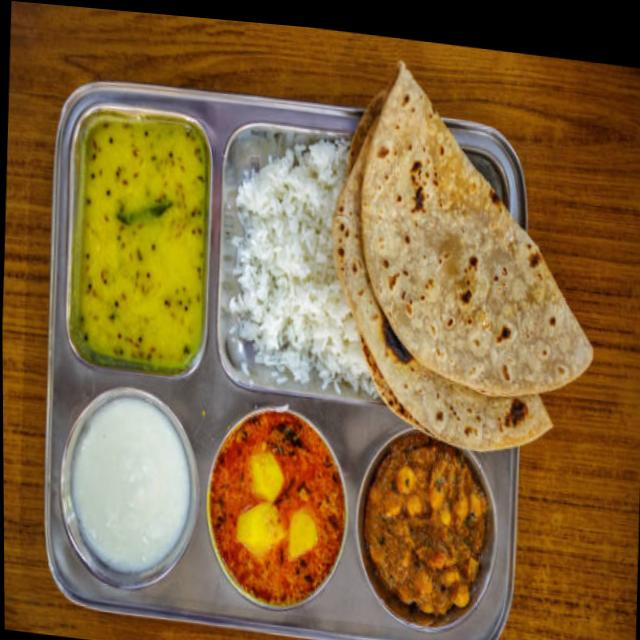CHAPATHI: (325, 61, 598, 454)
CURD: (72, 399, 192, 580)
KURMA: (77, 119, 205, 368), (212, 419, 343, 602), (360, 440, 492, 616)
RICE: (230, 137, 383, 392)
